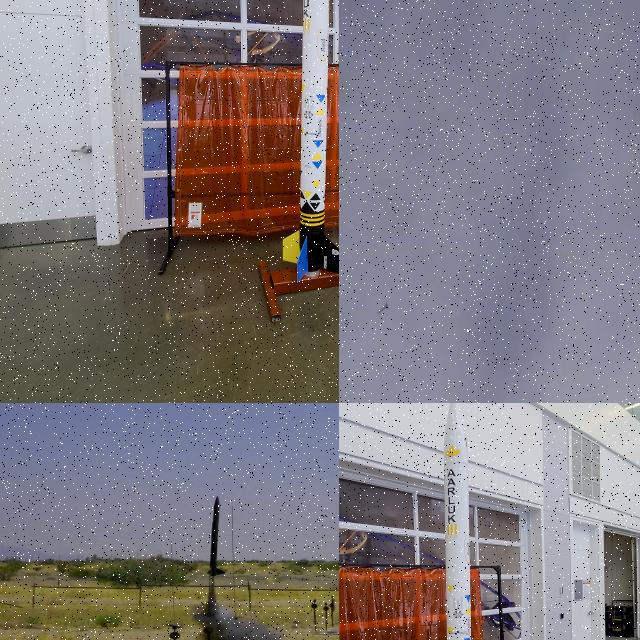Rocket: (283, 0, 339, 283), (444, 403, 471, 640), (207, 496, 225, 576), (378, 301, 388, 314)
